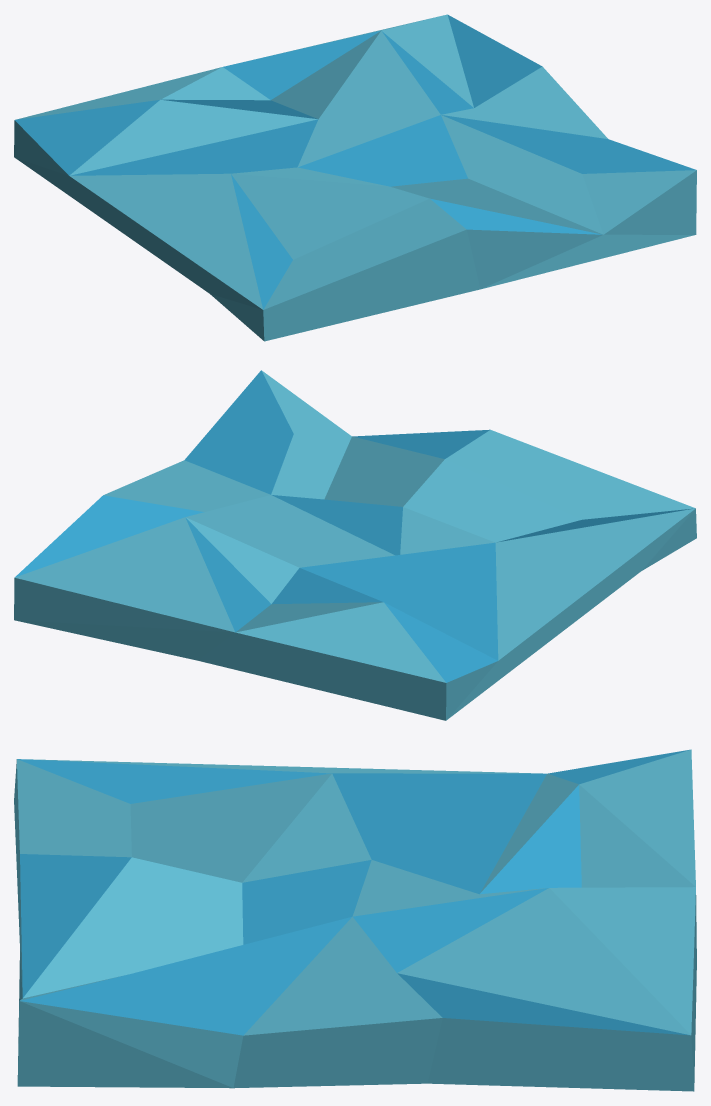
Rendered from water.fbx.
3 renders of one model, top to bottom at view 1: azimuth 30°, elevation 25°; view 2: azimuth 150°, elevation 25°; view 3: azimuth 270°, elevation 25°, orthographic. The views are drawn at different scales.
Parts seen in each view (by area): view 1: Plane; view 2: Plane; view 3: Plane.
Part boxes in pixels (x1,y1,x2,y2): Plane: (14,14,696,341); Plane: (14,370,696,720); Plane: (14,749,696,1091).
Size of the model in its own units: 201 by 40.96 by 202.
